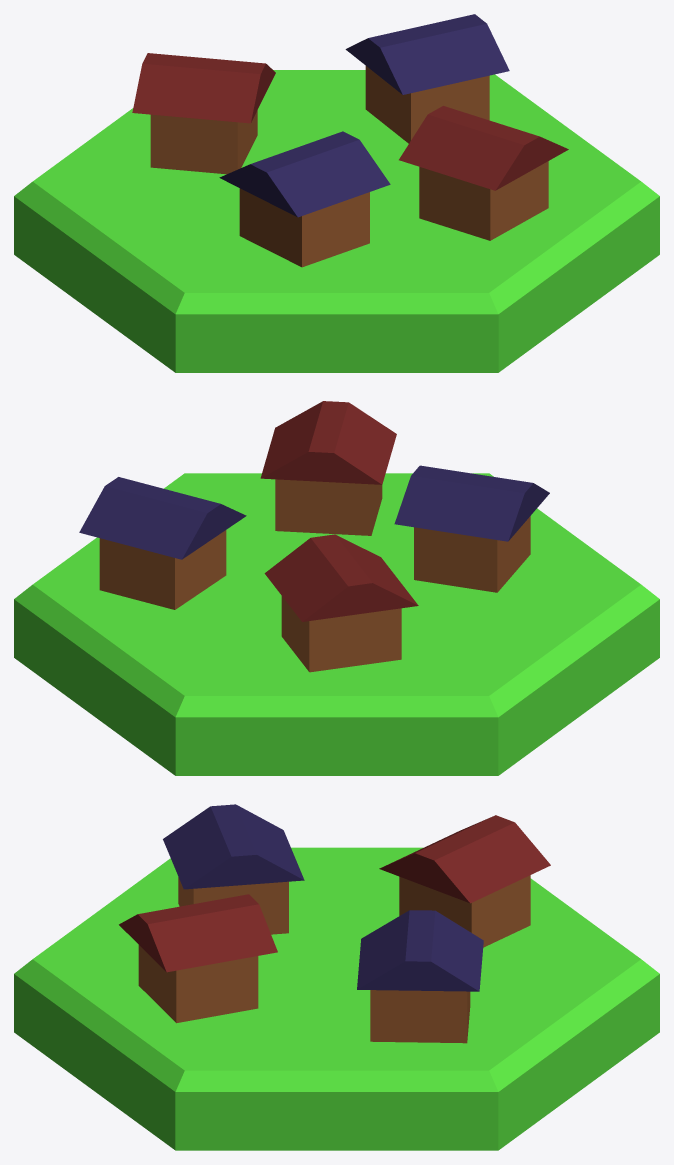
Rendered from tile_house_simple.fbx.
The picture shows the model from 3 angles, top to bottom: view 1: azimuth 30°, elevation 25°; view 2: azimuth 150°, elevation 25°; view 3: azimuth 270°, elevation 25°; orthographic projection.
Parts seen in each view (by area): view 1: Pad, House.001, House.002, House, House.003; view 2: Pad, House.003, House, House.002, House.001; view 3: Pad, House.002, House.003, House, House.001.
Part boxes in pixels (left/top/right/bottom): Pad: left=14, top=70, right=659, bottom=372; House.001: left=219, top=131, right=390, bottom=267; House.002: left=399, top=106, right=568, bottom=240; House: left=132, top=53, right=275, bottom=174; House.003: left=345, top=14, right=509, bottom=143; Pad: left=14, top=473, right=659, bottom=775; House.003: left=79, top=477, right=246, bottom=609; House: left=264, top=534, right=418, bottom=672; House.002: left=260, top=401, right=396, bottom=535; House.001: left=394, top=465, right=549, bottom=592; Pad: left=14, top=847, right=659, bottom=1150; House.002: left=119, top=894, right=277, bottom=1023; House.003: left=357, top=910, right=483, bottom=1043; House: left=379, top=815, right=550, bottom=947; House.001: left=163, top=804, right=304, bottom=934.
Bounding box in the file's own units: 346 × 110 × 400.
